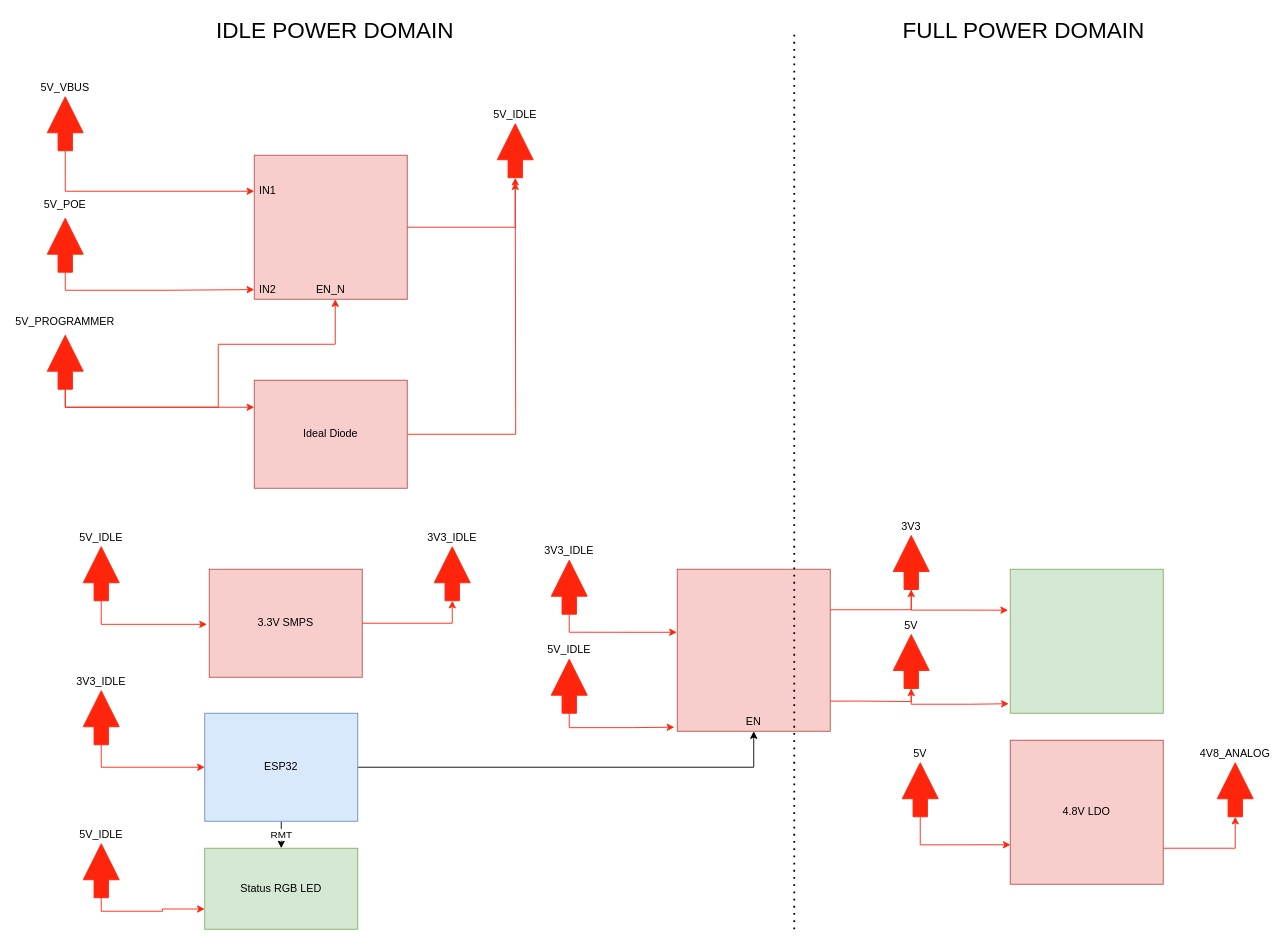
The diagram is 1285 pixels wide and 946 high, and some of its shapes have lost their labels. The box of each missing label's shape, as (x1, y1, x2, y2) in pixels:
Internal / External Sensors Peripherals: (1009, 568, 1163, 713)
Load Switches: (676, 568, 830, 731)
OR Power Switch Gives priority to IN1: (253, 154, 407, 299)
